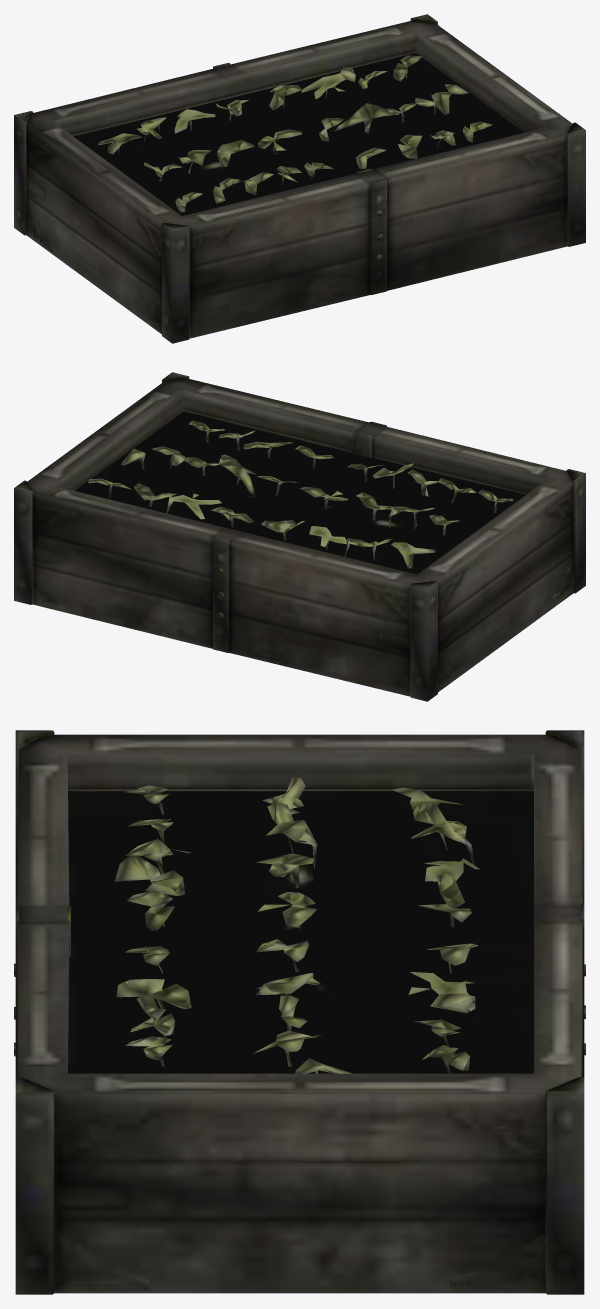
The model's file is prop_node_garden_sprouts.glb.
The picture shows the model from 3 angles, top to bottom: view 1: azimuth 30°, elevation 25°; view 2: azimuth 150°, elevation 25°; view 3: azimuth 270°, elevation 25°; orthographic projection. The views are drawn at different scales.
Visible parts, largest first — view 1: tripo_node_3c6a2deb-c187-41c3-86d9-255cb12380a3; view 2: tripo_node_3c6a2deb-c187-41c3-86d9-255cb12380a3; view 3: tripo_node_3c6a2deb-c187-41c3-86d9-255cb12380a3.
Part boxes in pixels (x1,y1,x2,y2): tripo_node_3c6a2deb-c187-41c3-86d9-255cb12380a3: (14,14,585,343); tripo_node_3c6a2deb-c187-41c3-86d9-255cb12380a3: (14,372,585,701); tripo_node_3c6a2deb-c187-41c3-86d9-255cb12380a3: (14,730,585,1294).
Size of the model in its own units: 0.998 by 0.2598 by 0.666.
1 material, 1 textured.
